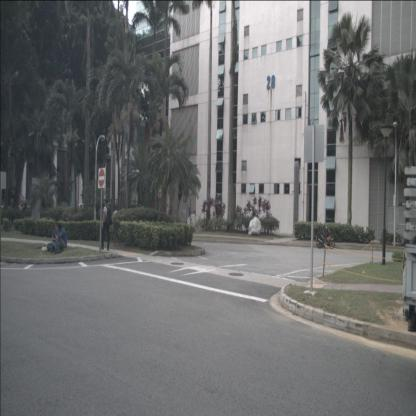human-pedestrian-adult: (100, 199, 112, 251), (46, 222, 63, 254), (54, 224, 68, 254), (188, 207, 191, 226)
vehicle-motorcycle: (316, 228, 336, 250)
